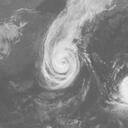cyclone: (39, 41, 80, 91)
